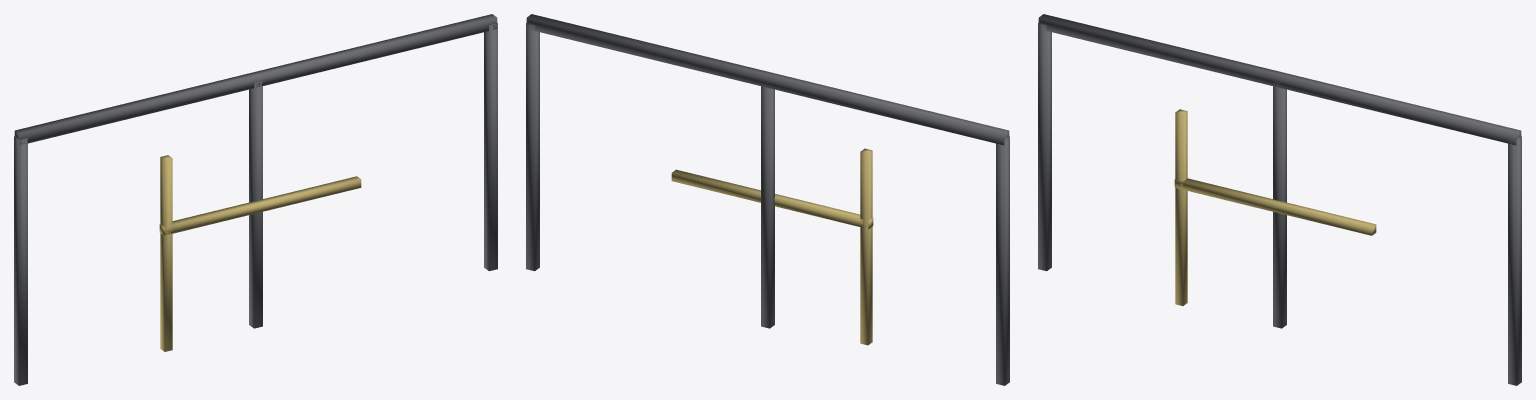
Rendered from industrial_gate_l240_h120.glb.
The picture shows the model from 3 angles, left to right: view 1: azimuth 30°, elevation 25°; view 2: azimuth 150°, elevation 25°; view 3: azimuth 330°, elevation 25°; orthographic projection.
Parts seen in each view (by area): view 1: world; view 2: world; view 3: world.
Part boxes in pixels (<box>): world: <box>14,14,497,385</box>; world: <box>526,14,1009,385</box>; world: <box>1038,14,1521,385</box>.
Bounding box in the file's own units: 2.44 × 1.23 × 0.0825.
